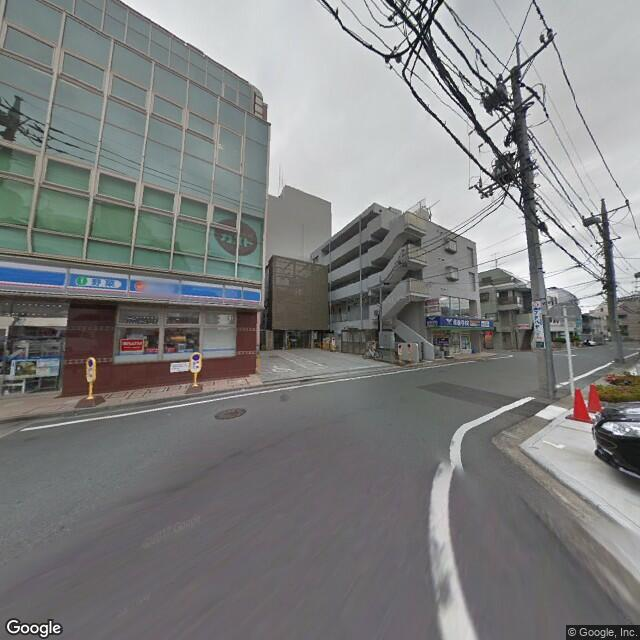lawson: (2, 255, 260, 312)
